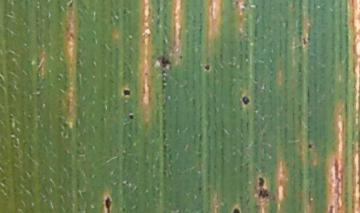tarspot: (103, 194, 113, 213), (239, 93, 251, 107), (256, 174, 265, 189), (120, 87, 132, 98), (126, 112, 135, 123), (203, 62, 211, 73), (305, 142, 314, 150), (231, 206, 241, 213)
